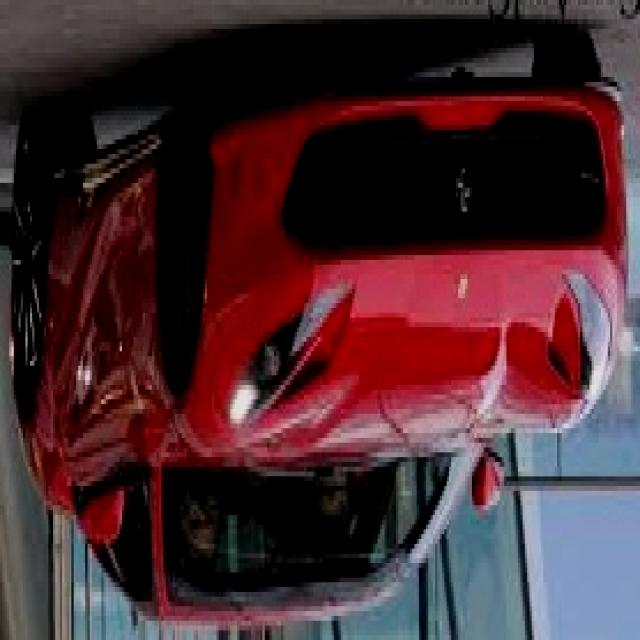red: (0, 79, 626, 626)
